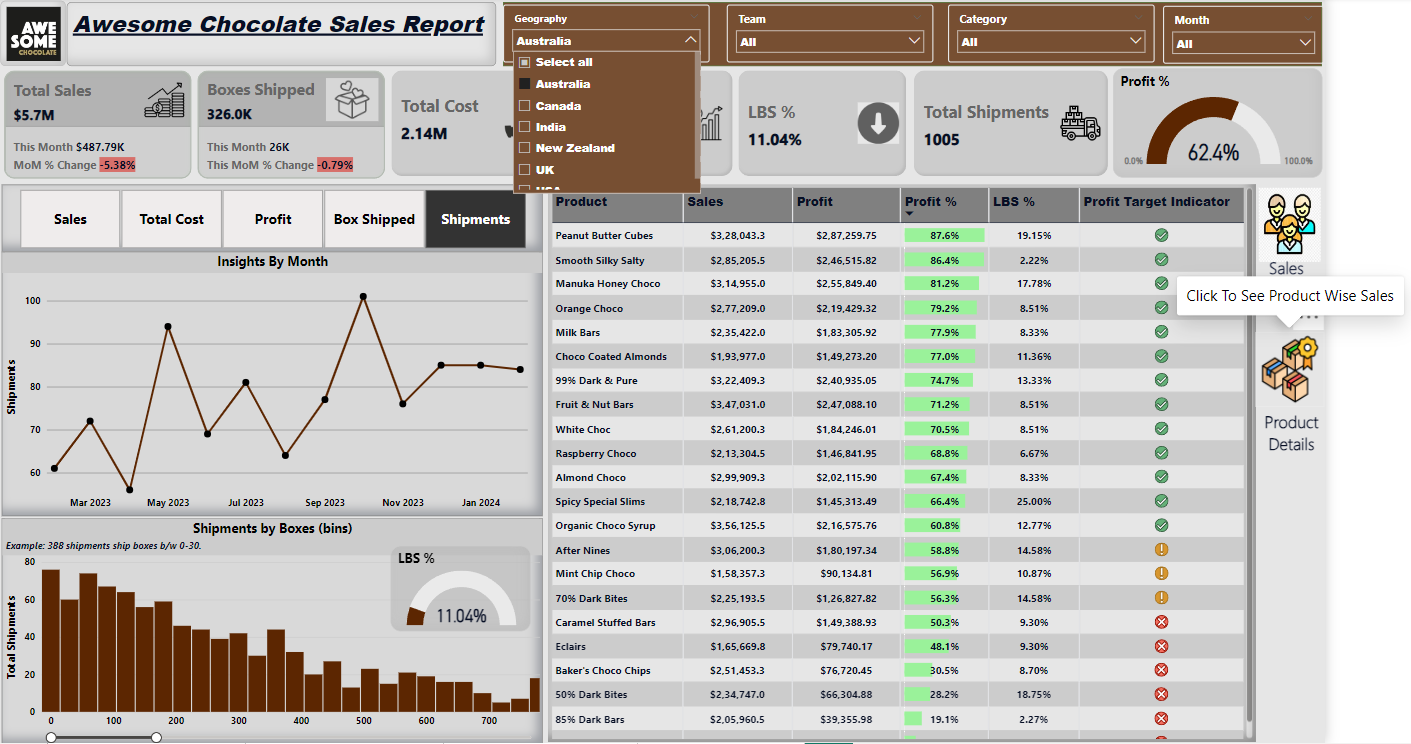

This screenshot's page, from the dashboard's own definition file:
{"tool":"powerbi","page":{"name":"A.C Company Report","canvas":[1920,1080],"ordinal":2},"visuals":[{"type":"cardVisual","fields":{"Data":["_Measures.Total Sales","_Measures.total boxes shipped"]},"box":[3.8,101.7,562.9,167.6],"z":0},{"type":"cardVisual","fields":{"Data":["_Measures.Total Cost","_Measures.Total Profit","_Measures.LBS %"]},"box":[564.8,101.7,756.9,163.8],"z":1000},{"type":"gauge","fields":{"Y":["_Measures.Profit %"]},"box":[1613.5,104,303,158],"z":2000},{"type":"image","box":[3.8,6,94,94.1],"z":3000},{"type":"textbox","box":[100,7.1,621.4,92.9],"z":4000},{"type":"cardVisual","fields":{"Data":["_Measures.Total Shipments"]},"box":[1321.7,101.7,291.8,163.8],"z":5000},{"type":"lineChart","title":"Insights By Month","fields":{"Y":["_Measures.Total Shipments"],"Category":["calendar.Start of Month"]},"box":[4.8,370.1,783,382],"z":6000},{"type":"slicer","fields":{"Values":["Measure Selector.Measure Selector"]},"box":[4.8,272.2,783.1,97.9],"z":7000},{"type":"columnChart","title":"Shipments by Boxes (bins)","fields":{"Y":["_Measures.Total Shipments"],"Category":["shipments.Boxes (bins)"]},"box":[4.8,754.5,783.1,327.1],"z":8000},{"type":"gauge","fields":{"Y":["_Measures.LBS %"]},"box":[568.2,795,202.9,124.2],"z":9000},{"type":"tableEx","title":"SalesPerson Details","fields":{"Values":["people.Picture","people.Sales person","_Measures.Total Sales","_Measures.Total Profit","_Measures.Profit %","_Measures.LBS %","_Measures.Profit Targrt Indicator"]},"box":[796,272,1025,806],"z":10000},{"type":"image","box":[1820.3,271.3,99.2,116.7],"z":12000},{"type":"image","title":"Products Icon","box":[1820,485,100,108.3],"z":13000},{"type":"textbox","box":[1820.5,371,95.9,83.2],"z":14000},{"type":"textbox","box":[1823.3,593.3,96.7,80],"z":15000},{"type":"shape","box":[731.5,7.3,1185.6,93],"z":16000},{"type":"slicer","fields":{"Values":["locations.Geo"]},"box":[731.5,10.9,299.1,83.9],"z":17000},{"type":"slicer","fields":{"Values":["people.Team"]},"box":[1054.3,10.9,299.1,83.9],"z":18000},{"type":"slicer","fields":{"Values":["products.Category"]},"box":[1375.5,10.9,299.1,83.6],"z":19000},{"type":"slicer","fields":{"Values":["calendar.Year","calendar.Month Name"]},"box":[1686.4,11.8,233.6,83.6],"z":19001}]}

Visuals, with their boxes on the page's 1920x1080 design canvas (x1, y1, x2, y2). These are canvas units, not pixel positions in the 1411x744 screenshot, which may show the page scaled, cropped or inside an application window:
cardVisual - _Measures.Total Sales x _Measures.total boxes shipped: (4,102,567,269)
cardVisual - _Measures.Total Cost x _Measures.Total Profit: (565,102,1322,266)
gauge - _Measures.Profit %: (1614,104,1916,262)
image: (4,6,98,100)
textbox: (100,7,721,100)
cardVisual - _Measures.Total Shipments: (1322,102,1614,266)
"Insights By Month" lineChart: (5,370,788,752)
slicer - Measure Selector.Measure Selector: (5,272,788,370)
"Shipments by Boxes (bins)" columnChart: (5,754,788,1082)
gauge - _Measures.LBS %: (568,795,771,919)
"SalesPerson Details" tableEx: (796,272,1821,1078)
image: (1820,271,1920,388)
"Products Icon" image: (1820,485,1920,593)
textbox: (1820,371,1916,454)
textbox: (1823,593,1920,673)
shape: (732,7,1917,100)
slicer - locations.Geo: (732,11,1031,95)
slicer - people.Team: (1054,11,1353,95)
slicer - products.Category: (1376,11,1675,94)
slicer - calendar.Year x calendar.Month Name: (1686,12,1920,95)
